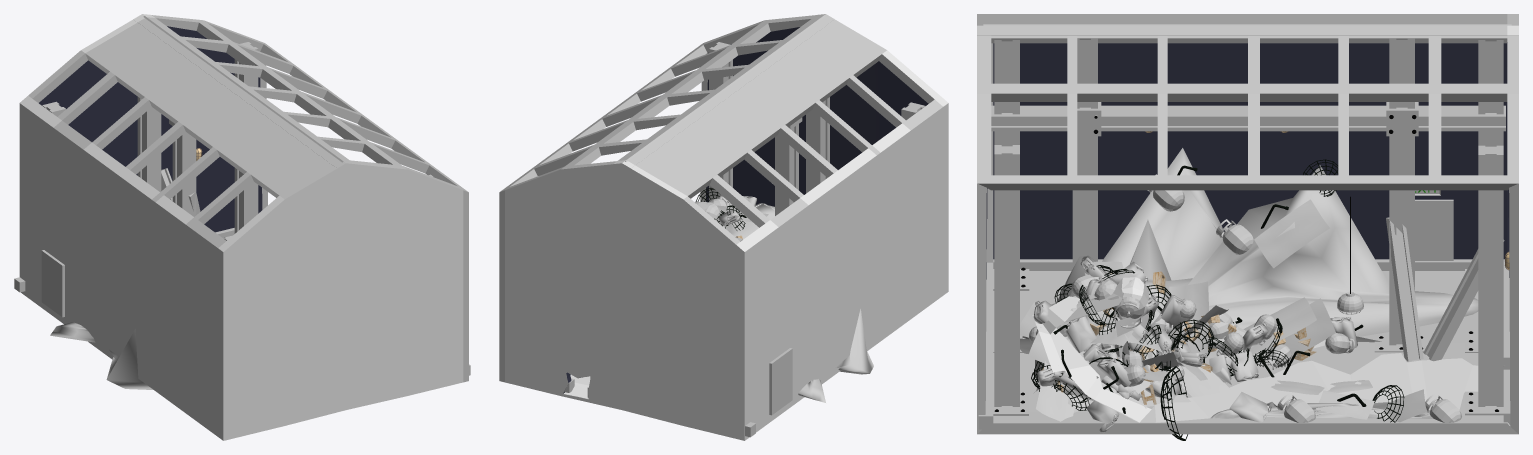
The model's file is HANGAR.fbx.
3 views of the same model, side by side, from view 1: azimuth 30°, elevation 25°; view 2: azimuth 150°, elevation 25°; view 3: azimuth 270°, elevation 25° (orthographic). The views are drawn at different scales.
Parts seen in each view (by area): view 1: STRUCTURE.002, Icosphere.002, Cube.008, Cube.019, Cube.026, Cube.009, Cube.005; view 2: STRUCTURE.002, Icosphere.002, Cube.007, Cube.026, Cube.020, Cube.010, Cube.005, Plane; view 3: STRUCTURE.002, Icosphere.002, Plane, BARRE, Cube.010, Cube.009, Cube.005, Cube.019, Cube.020, Poutre métallique.003, g sheet_15.004, Cube.026 (+30 smaller).
Boxes of the visible parts, left/top/right/bottom form: STRUCTURE.002: left=19, top=14, right=468, bottom=440; Icosphere.002: left=50, top=322, right=153, bottom=389; Cube.008: left=137, top=97, right=161, bottom=191; Cube.019: left=172, top=132, right=196, bottom=216; Cube.026: left=41, top=250, right=64, bottom=317; Cube.009: left=234, top=42, right=258, bottom=233; Cube.005: left=143, top=16, right=343, bottom=162; STRUCTURE.002: left=499, top=14, right=948, bottom=440; Icosphere.002: left=720, top=203, right=873, bottom=402; Cube.007: left=806, top=97, right=829, bottom=193; Cube.026: left=769, top=348, right=792, bottom=415; Cube.020: left=775, top=124, right=798, bottom=215; Cube.010: left=709, top=42, right=732, bottom=202; Cube.005: left=625, top=15, right=824, bottom=161; Plane: left=564, top=202, right=714, bottom=398; STRUCTURE.002: left=977, top=14, right=1518, bottom=434; Icosphere.002: left=1035, top=148, right=1478, bottom=412; Plane: left=1036, top=277, right=1478, bottom=422; BARRE: left=991, top=105, right=1505, bottom=131; Cube.010: left=994, top=145, right=1019, bottom=406; Cube.009: left=1478, top=145, right=1503, bottom=406; Cube.005: left=983, top=24, right=1511, bottom=43; Cube.019: left=1389, top=38, right=1414, bottom=345; Cube.020: left=1072, top=38, right=1097, bottom=268; Poutre métallique.003: left=1386, top=217, right=1423, bottom=361; g sheet_15.004: left=1254, top=199, right=1329, bottom=268; Cube.026: left=1415, top=199, right=1453, bottom=260.
Bounding box in the file's own units: 1172 × 1040 × 1486.
